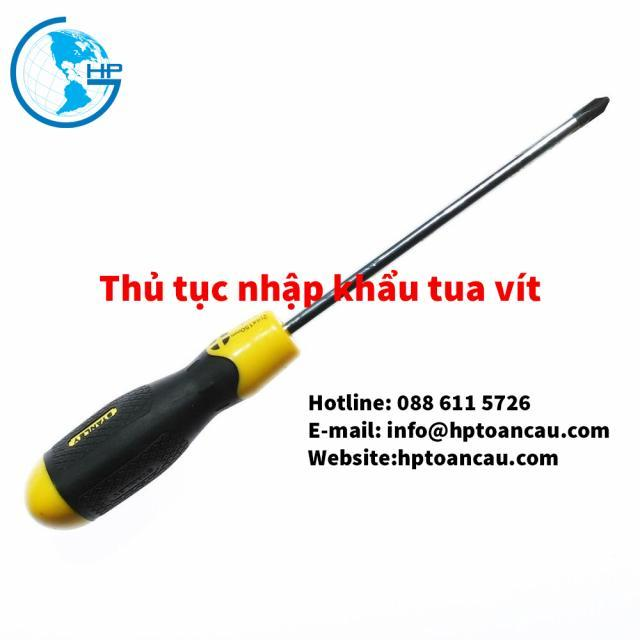screwdriver: (21, 90, 616, 540)
